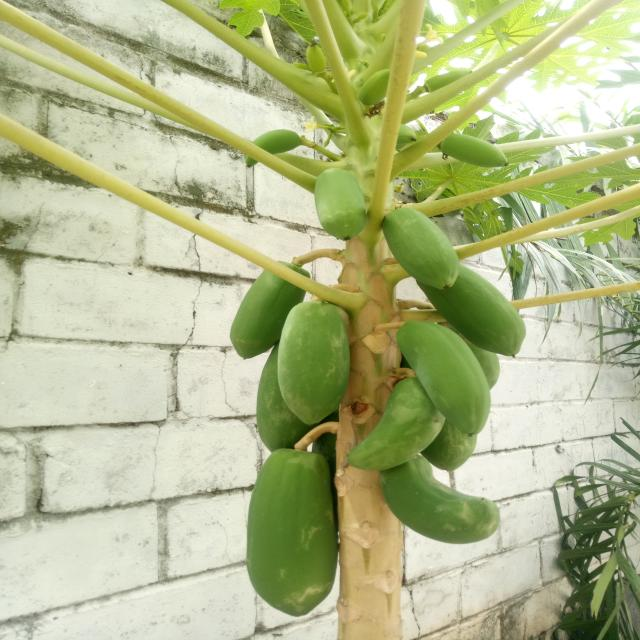Pepaya unrippen: (249, 452, 350, 619), (382, 463, 507, 553), (401, 324, 494, 428), (274, 310, 346, 414), (376, 209, 456, 292), (448, 282, 532, 354), (231, 267, 291, 359), (312, 164, 366, 245)
